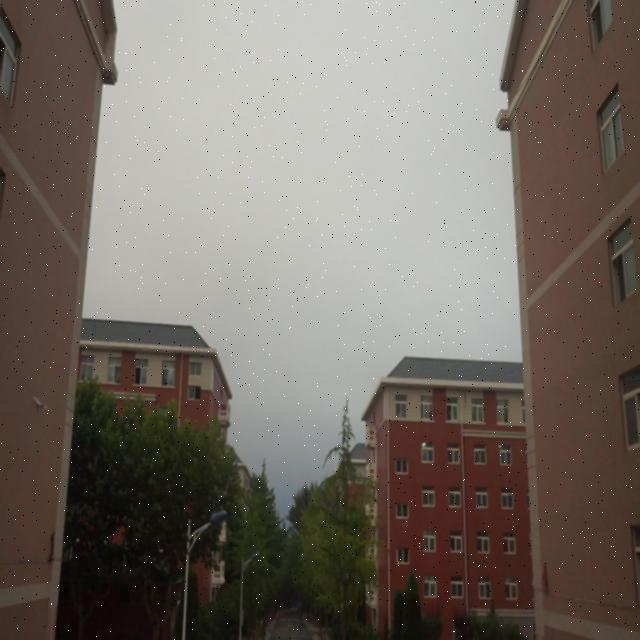UAV: (33, 397, 49, 413)
